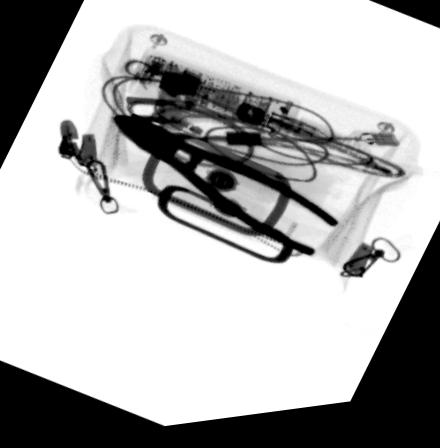Pliers: (110, 115, 341, 267)
